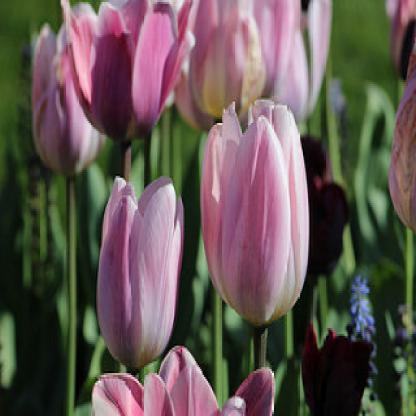TULIP: (19, 7, 348, 384)
